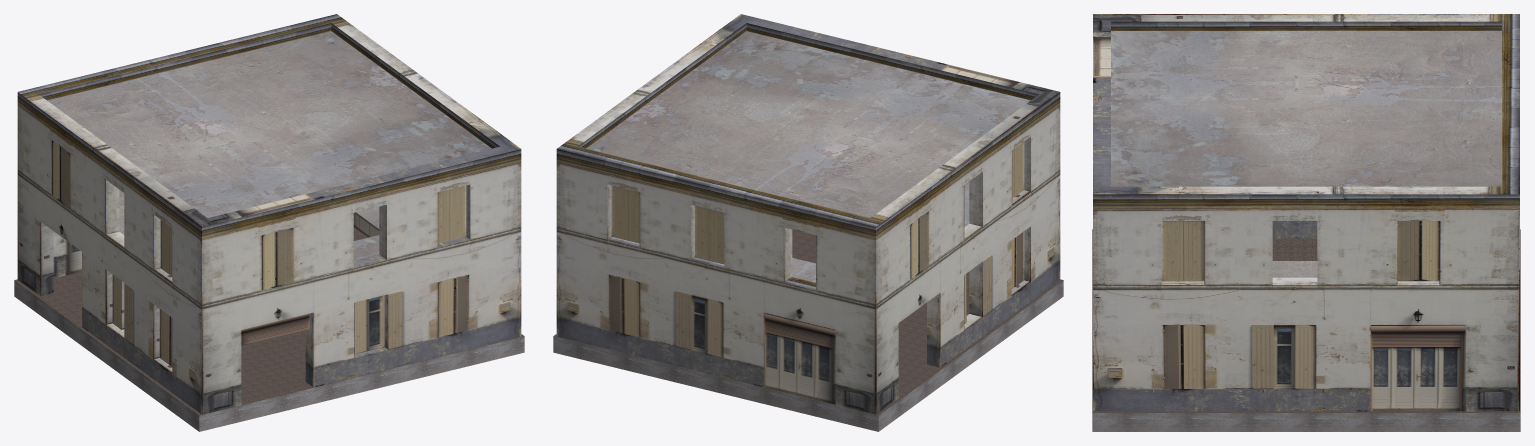
The model's file is BagBuilding16_200.fbx.
3 renders of one model, left to right at view 1: azimuth 30°, elevation 25°; view 2: azimuth 150°, elevation 25°; view 3: azimuth 270°, elevation 25°, orthographic. The views are drawn at different scales.
Parts seen in each view (by area): view 1: mainA200, roof200, floorb200, floor200, upper200; view 2: mainB200, mainA200, roof200, floorb200, floor200, upper200; view 3: mainB200, roof200, mainA200, floorb200, floor200, upper200.
Part boxes in pixels (x1,y1,x2,y2): mainA200: (17, 14, 521, 414); roof200: (47, 31, 491, 217); floorb200: (14, 280, 524, 431); floor200: (14, 227, 524, 415); upper200: (119, 189, 379, 260); mainB200: (556, 23, 1038, 414); mainA200: (557, 14, 1060, 414); roof200: (586, 31, 1030, 217); floorb200: (553, 280, 1063, 431); floor200: (553, 229, 1063, 415); upper200: (792, 182, 969, 282); mainB200: (1093, 21, 1519, 411); roof200: (1111, 31, 1501, 186); mainA200: (1093, 14, 1519, 285); floorb200: (1092, 413, 1520, 431); floor200: (1092, 229, 1520, 412); upper200: (1272, 261, 1317, 277).
Size of the model in its own units: 27.37 by 16.4 by 26.97.
